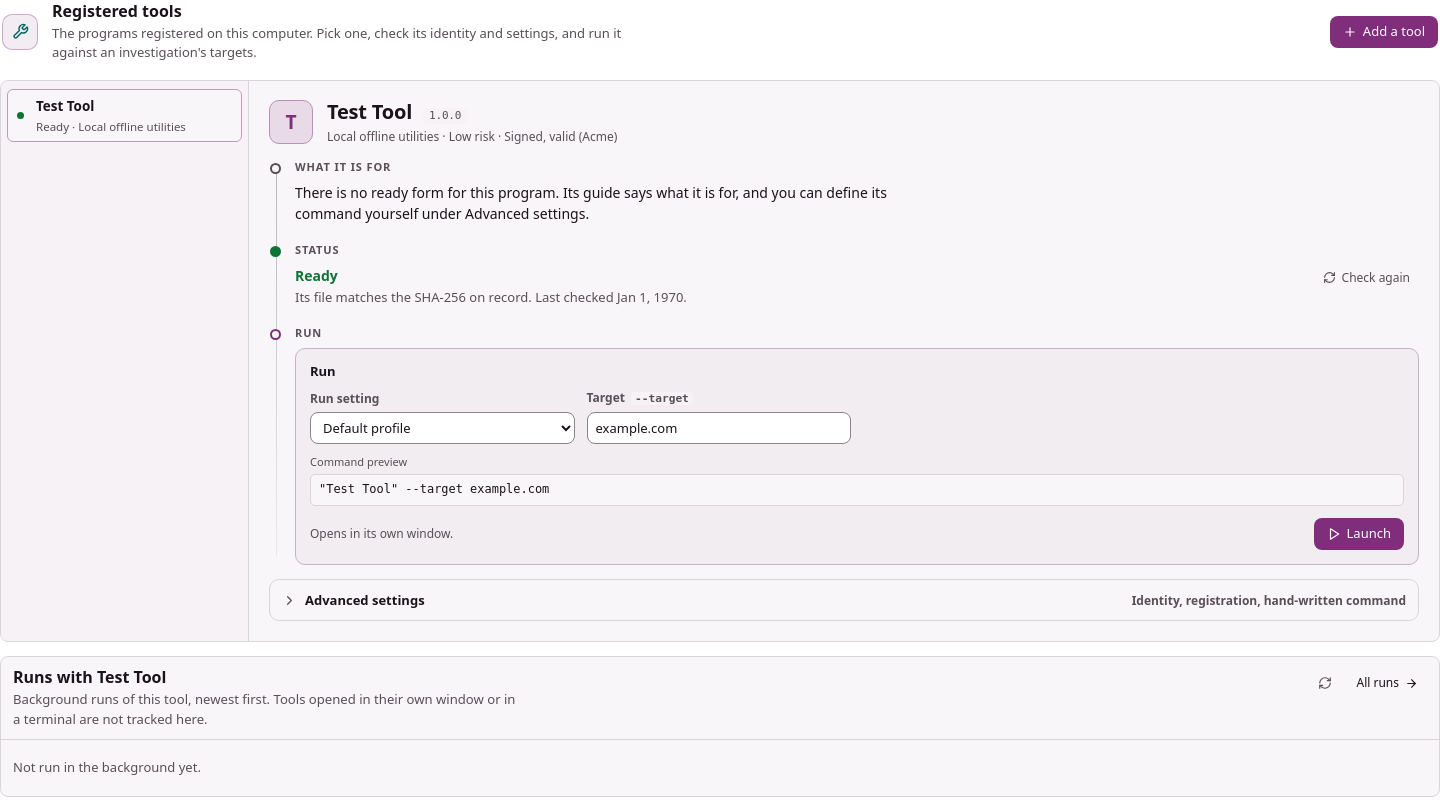
Test case: ToolLabPanel Launch router › launchKind "gui" shows the unavailable error and does not toast when launchDetached refuses with reason "browser_mode"
This screenshot has width=1440, height=810.
Click the button "Launch": (1359, 534) [1314,518,1404,550]
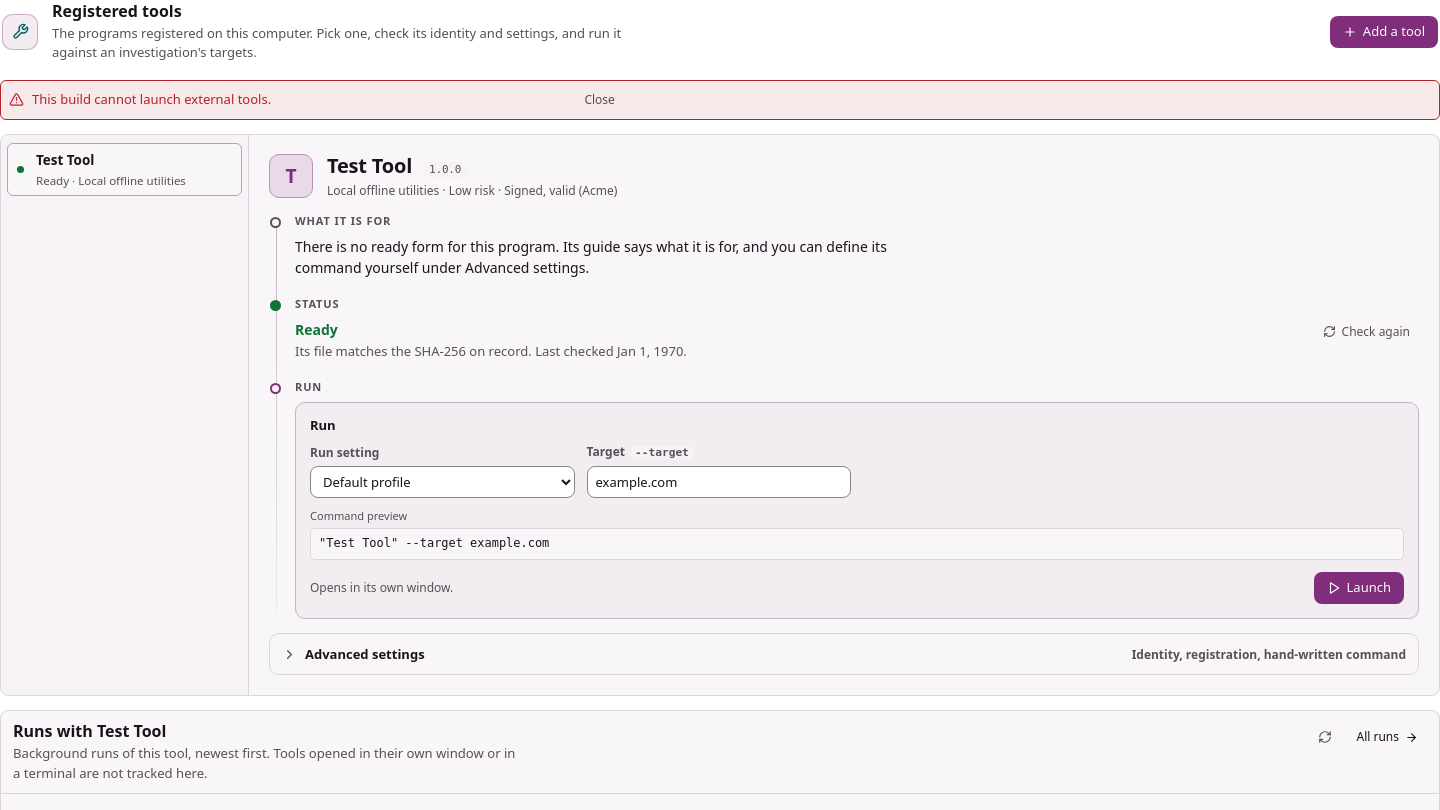
Expected: the button "Launch" is enabled, [1314,572,1404,604]
Now the message "This build cannot launch external tools. Close" is shown, box [0,80,1439,120]
Now the message shows "This build cannot launch external tools.", box [32,90,271,108]
